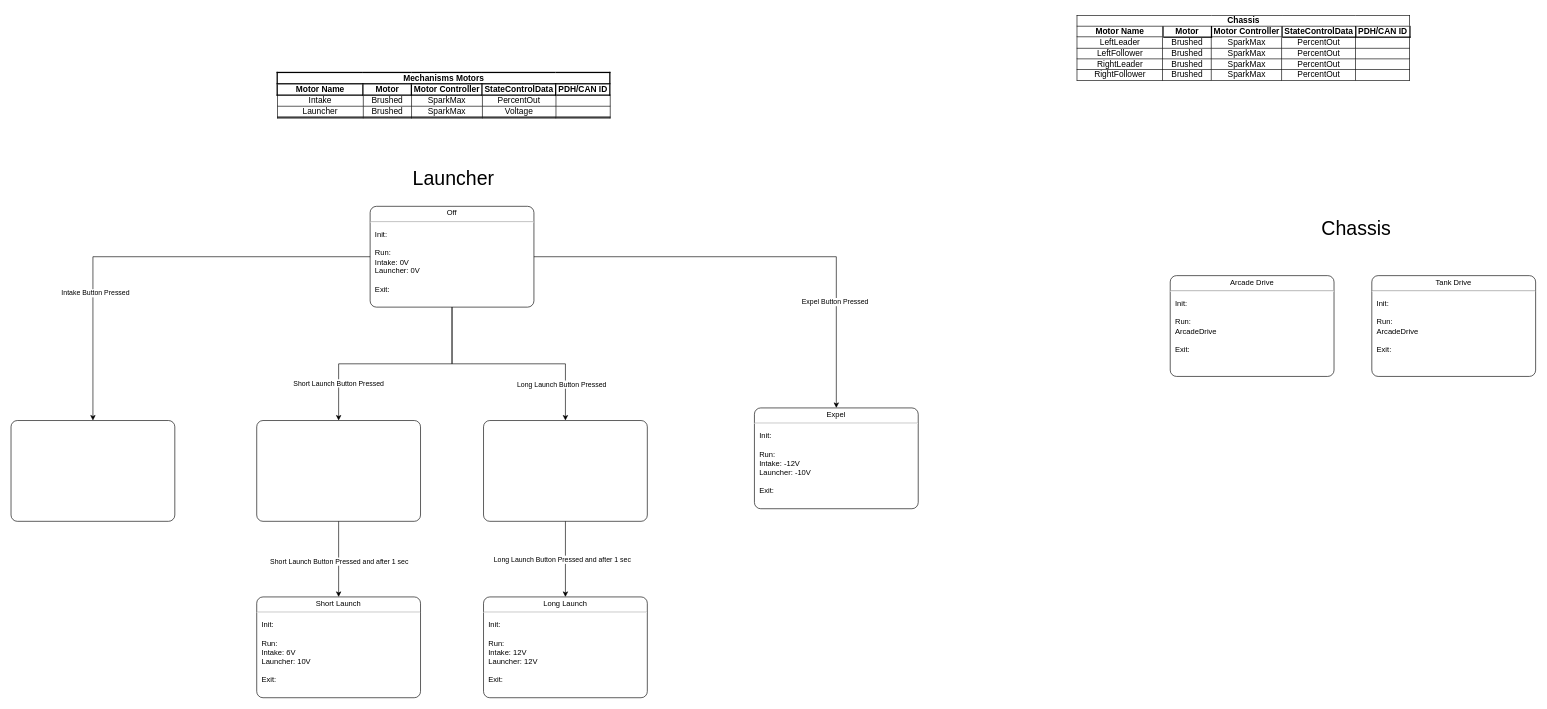
This 1547x709 diagram has some shape labels left out. Each missing label, with the centre of its shape:
Intake Init: Run: Intake: 12V Launcher: 0V Exit:: point (92, 470)
SpinUpLong Init: Run: Intake: 0V Launcher: 12V Exit:: point (565, 470)
SpinUpShort Init: Run: Intake: 0V Launcher: 10V Exit:: point (338, 470)
